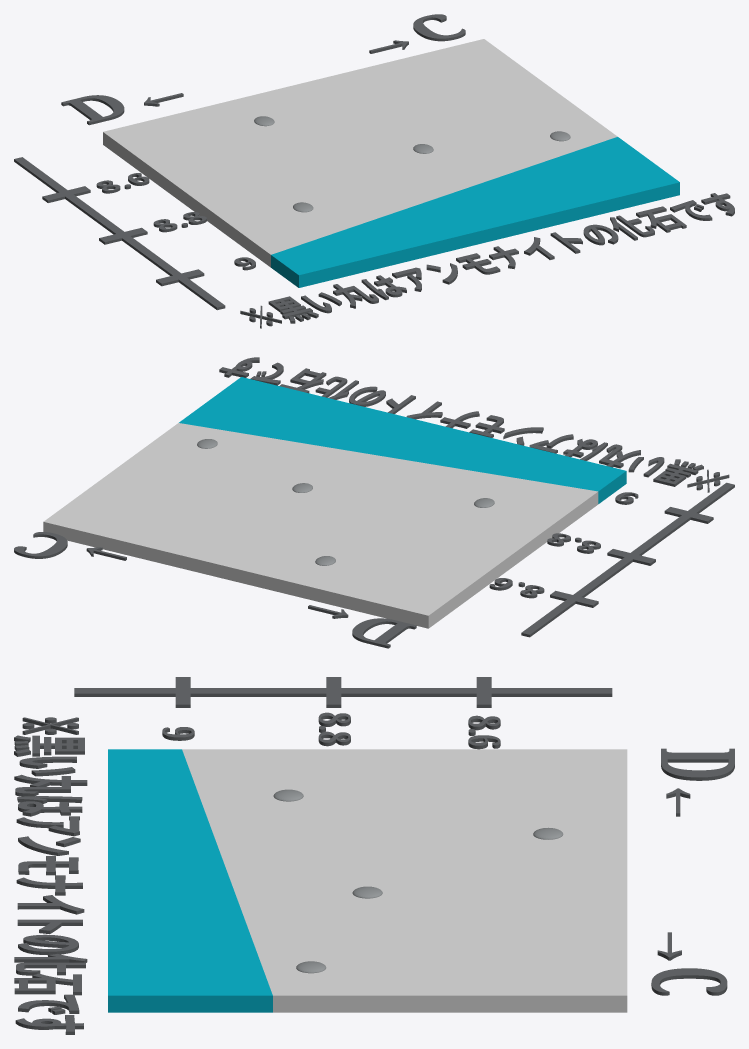
The model's file is syoukouguti.glb.
The picture shows the model from 3 angles, top to bottom: view 1: azimuth 30°, elevation 25°; view 2: azimuth 150°, elevation 25°; view 3: azimuth 270°, elevation 25°; orthographic projection. The views are drawn at different scales.
Visible parts, largest first — view 1: Mesh_Mesh_head_geo.001_lambert2SG.001; view 2: Mesh_Mesh_head_geo.001_lambert2SG.001; view 3: Mesh_Mesh_head_geo.001_lambert2SG.001.
Boxes of the visible parts, x1,y1,x2,y2 form: Mesh_Mesh_head_geo.001_lambert2SG.001: (14,14,734,328); Mesh_Mesh_head_geo.001_lambert2SG.001: (14,357,734,648); Mesh_Mesh_head_geo.001_lambert2SG.001: (14,677,734,1034).
Bounding box in the file's own units: 0.2144 × 0.006 × 0.1916.
